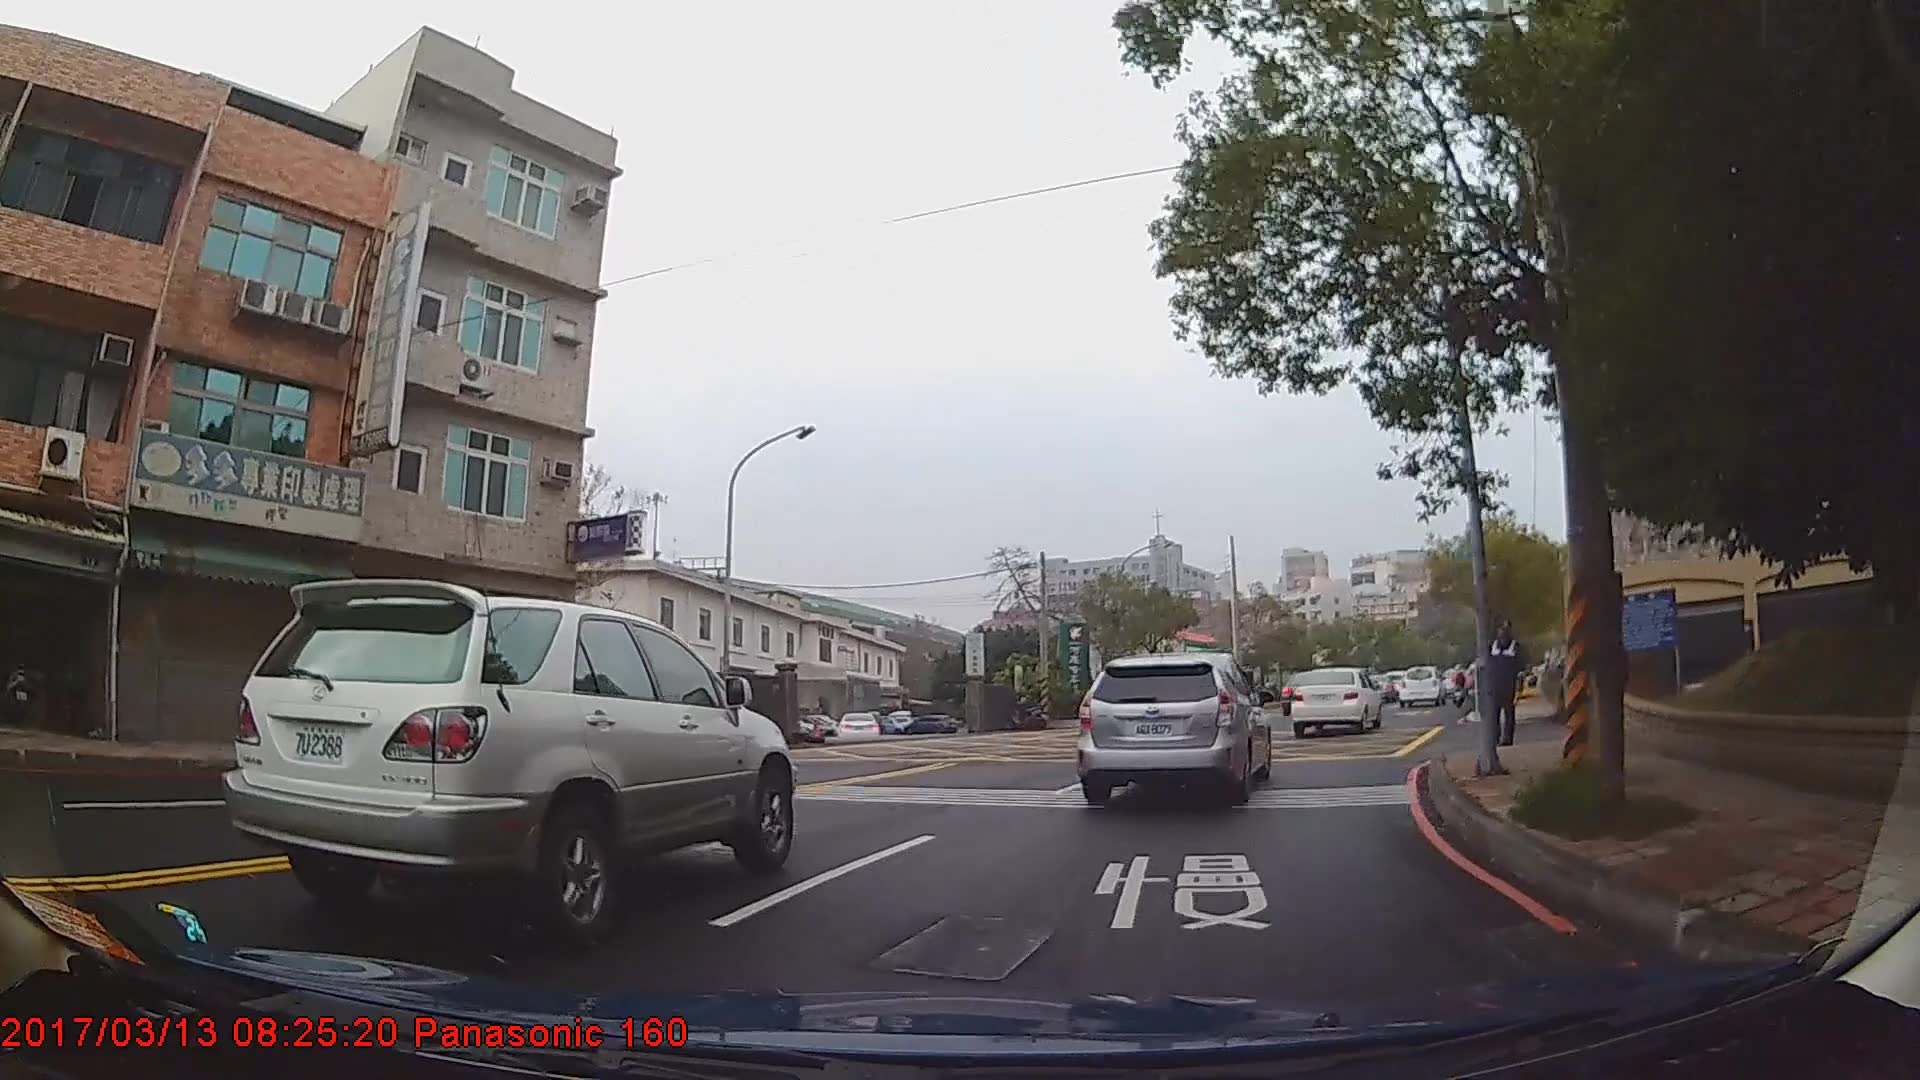pedestrian: (1486, 621, 1527, 748)
vehicle: (220, 579, 796, 941), (1073, 650, 1271, 802), (1286, 667, 1381, 734), (1396, 665, 1448, 708), (835, 712, 881, 741), (900, 715, 960, 736)
